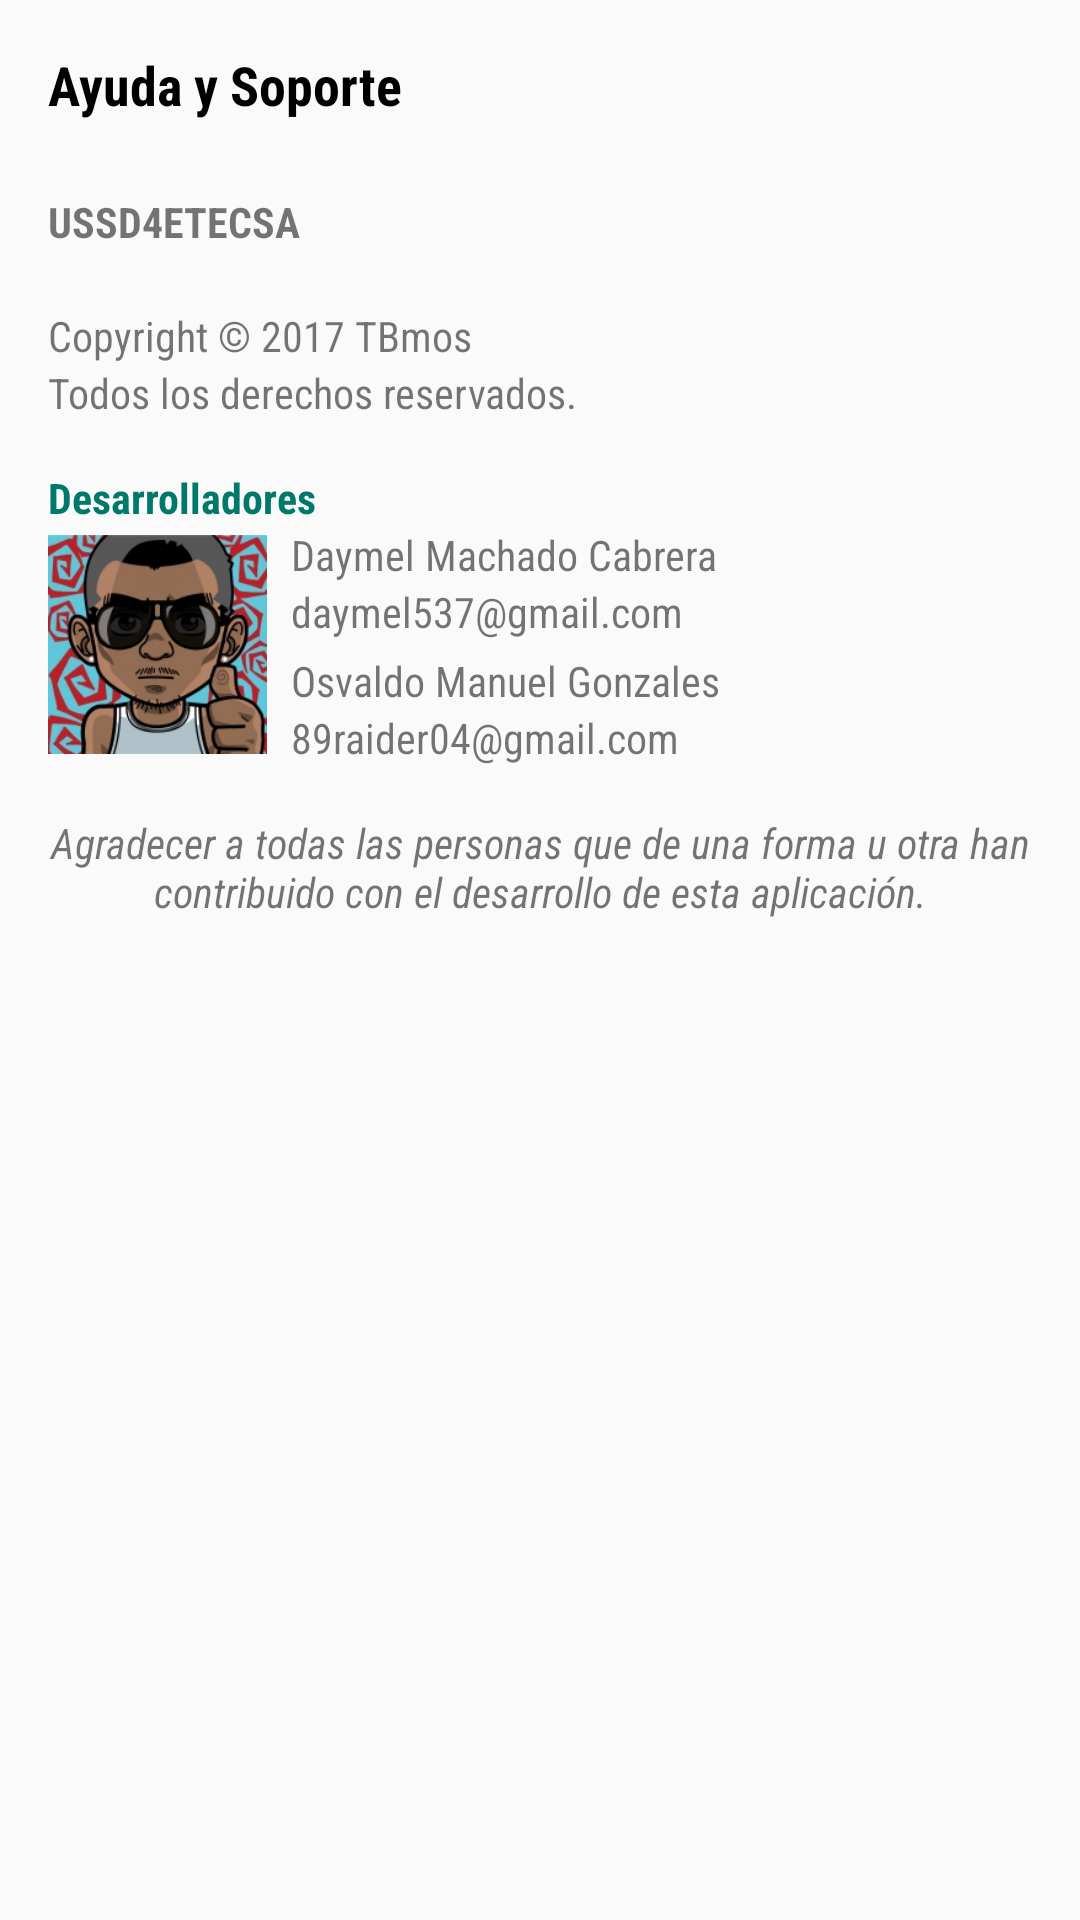

Screen size 1080×1920. Icon name, then its center in pixels as point (x, y):
contact: point (157, 644)
